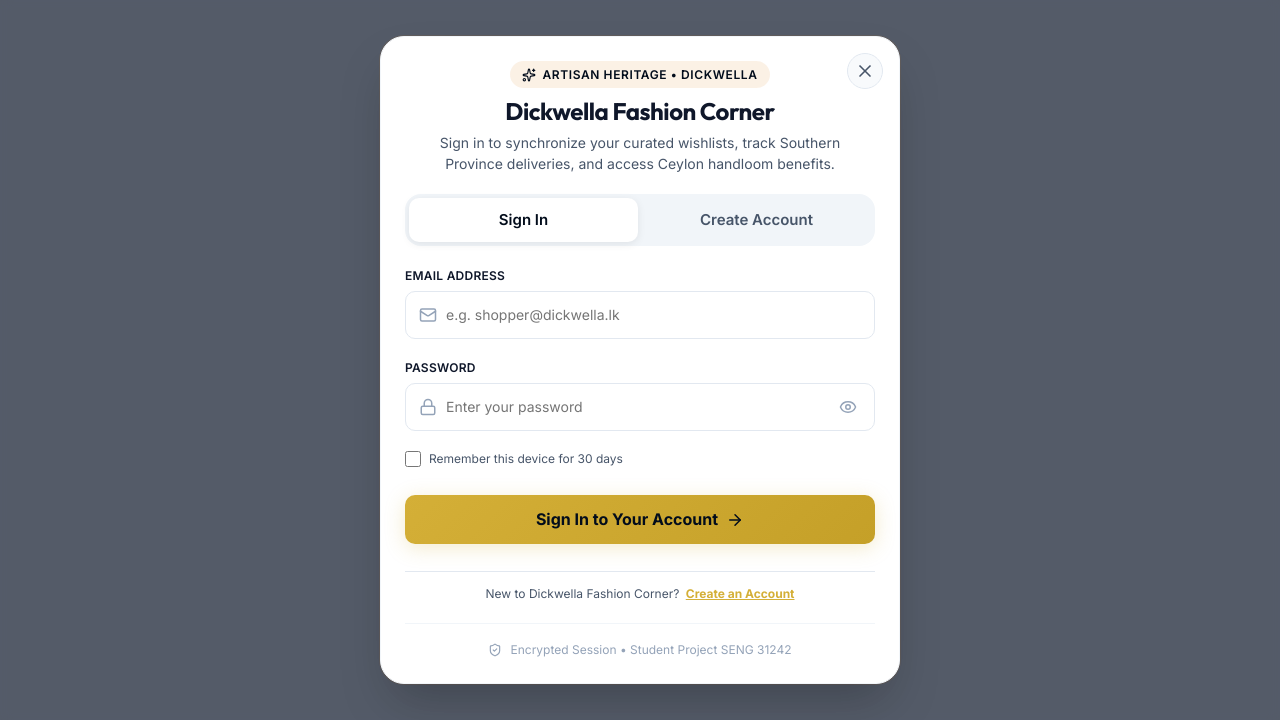
Test: STORM-FE-013: Customer Authentication Modal with Lockout Countdown & Password Visibility › DEV-177: AuthModal Tab Navigation & Accessibility › defaults to Sign In tab and switches smoothly to Create Account tab
Expected: the form with test id "login-form" is shown, x1=405 y1=266 x2=875 y2=603
# Click Create Account tab
Click the tab with test id "tab-register": (756, 220) x1=642 y1=198 x2=871 y2=242
(page scrolled)
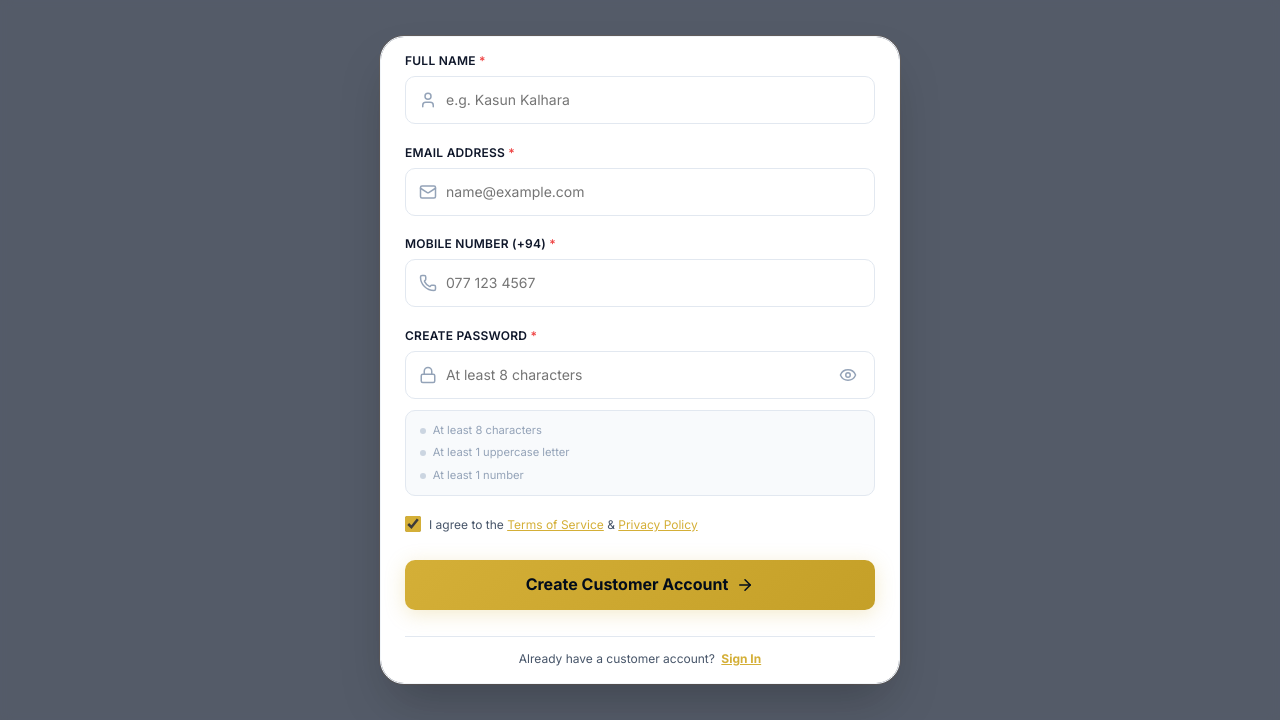
Expected: the form with test id "register-form" is shown, x1=405 y1=51 x2=875 y2=668
Expected: the form with test id "login-form" is gone
